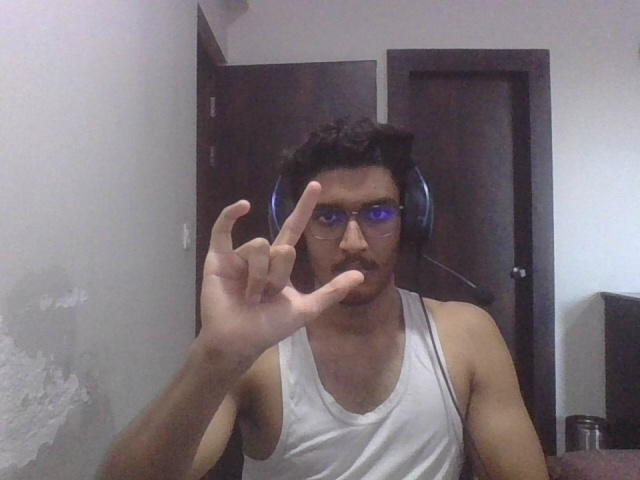I love You: (192, 178, 364, 354)
